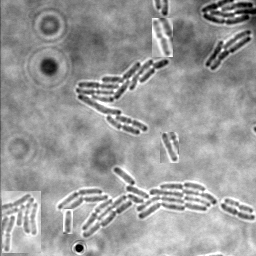Dividing: (152, 18, 173, 57), (219, 204, 255, 222), (223, 199, 253, 215), (63, 209, 73, 234)
Microcolony: (57, 167, 216, 238), (75, 59, 169, 136), (2, 191, 41, 253), (204, 30, 251, 72), (200, 1, 255, 26)
Rod: (160, 132, 179, 163)
